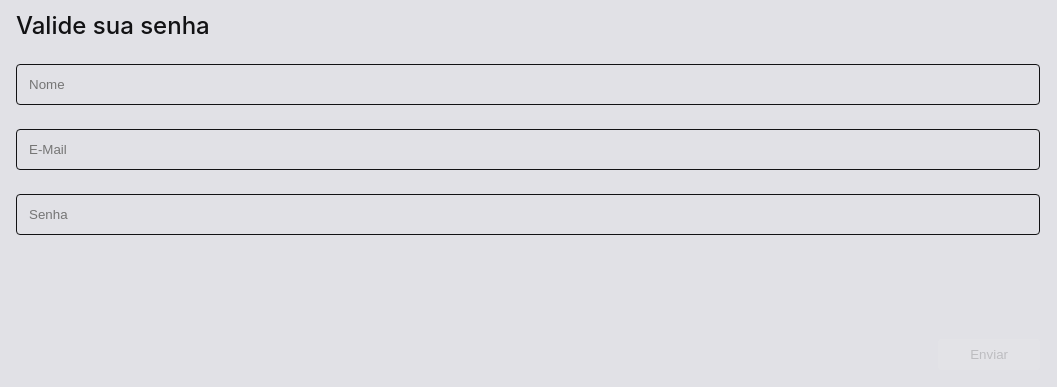
Form Submission › should show API error message on submission failure
In the field named "name": [528, 85] box [16,64,1040,105], type "Teste Name"
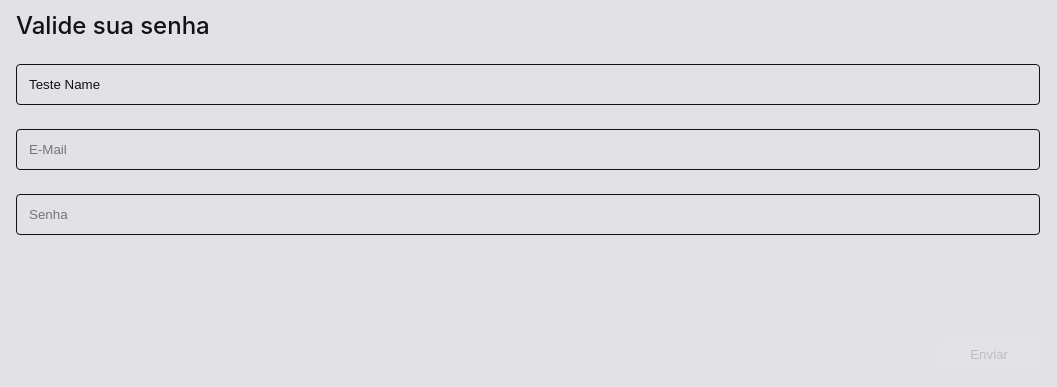
In the field named "email": [528, 150] box [16,129,1040,170], type "teste@teste.com"
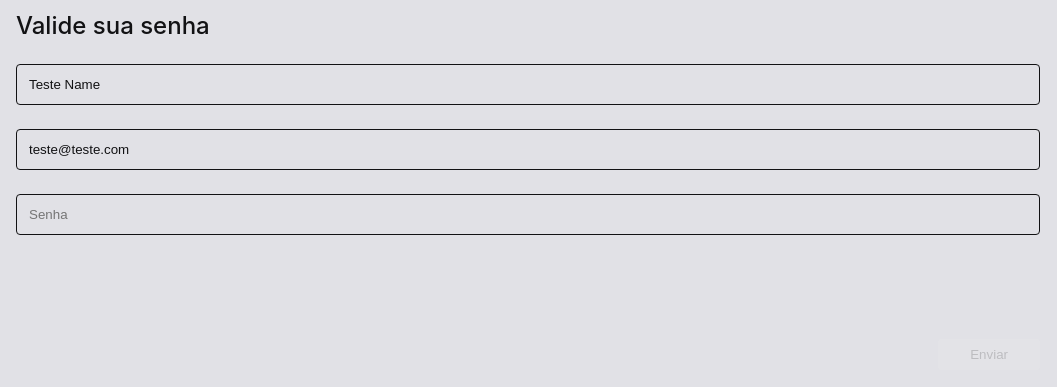
In the field named "password": [528, 215] box [16,194,1040,235], type "223344"
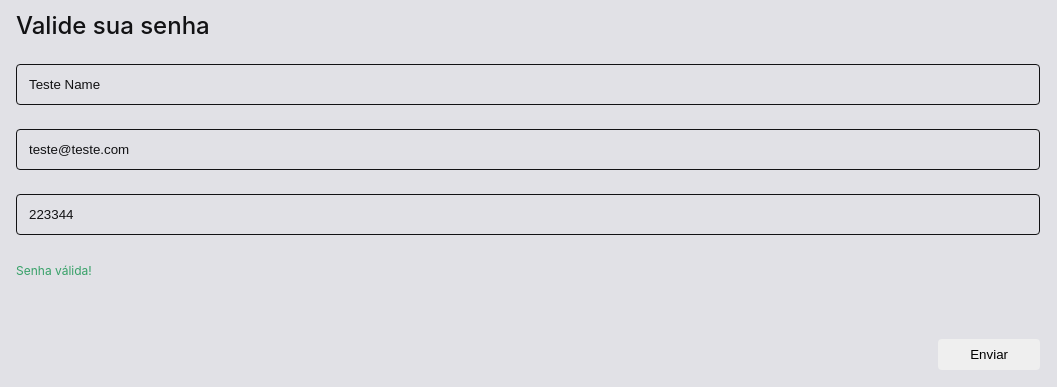
Click the button with aria-label "Enviar": [989, 355] box [938,339,1040,370]
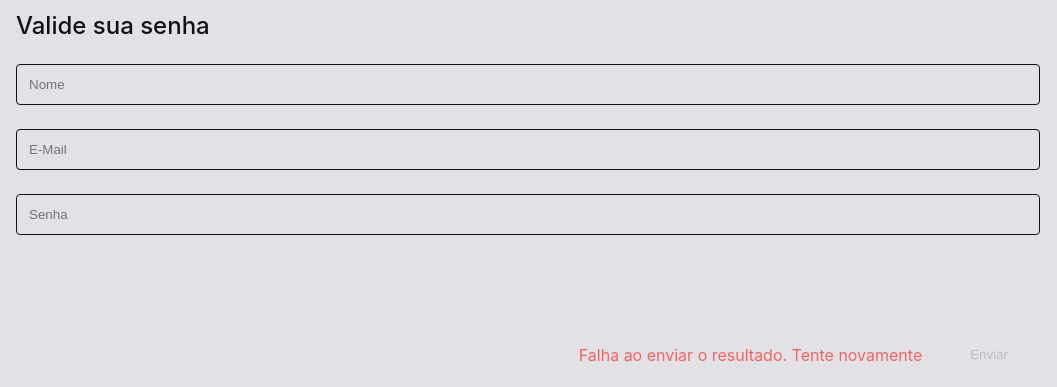
Expected: the text "Falha ao enviar o resultado. Tente novamente" is shown, [579,344,922,364]
